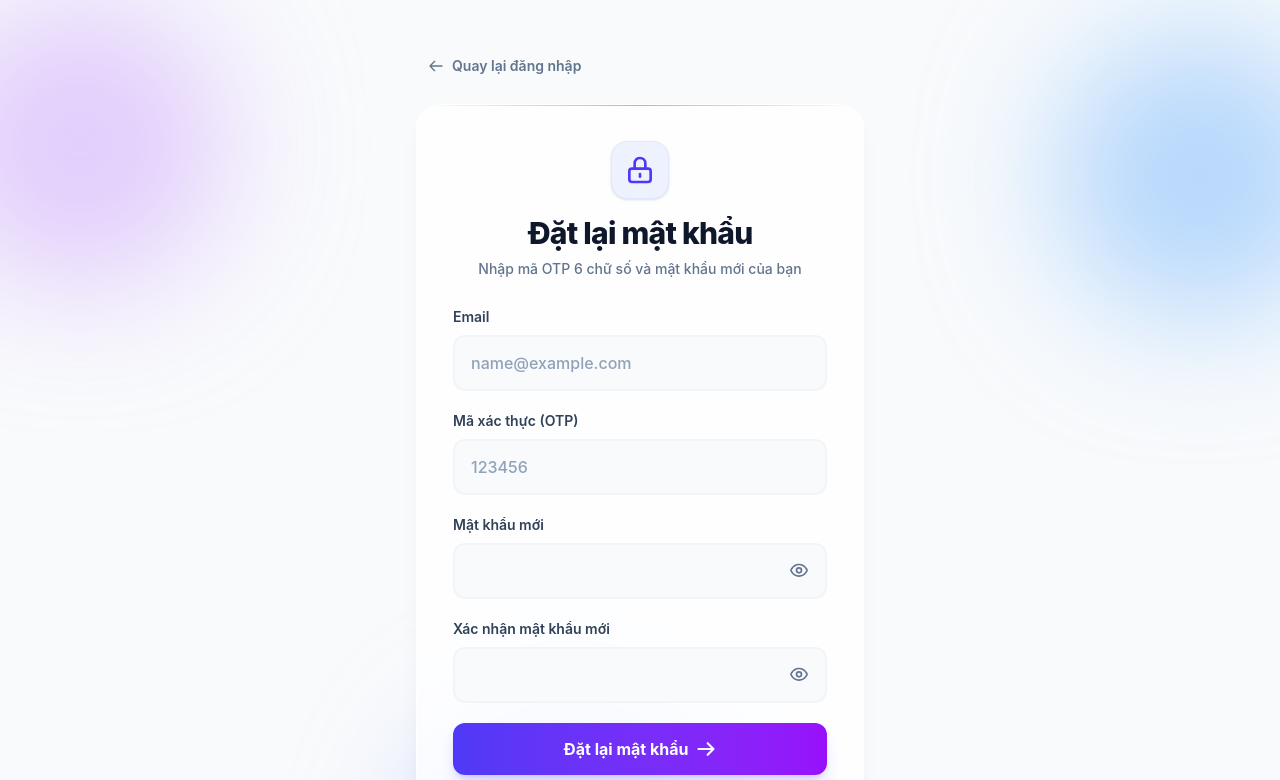
Password Recovery & Management UI Tests › ResetPasswordPage › hiển thị đầy đủ label, autocomplete và kiểm tra validation client-side
Step 1. Type "test@example.com" into the field labelled "Email" → (640, 363), box [453, 335, 827, 391]
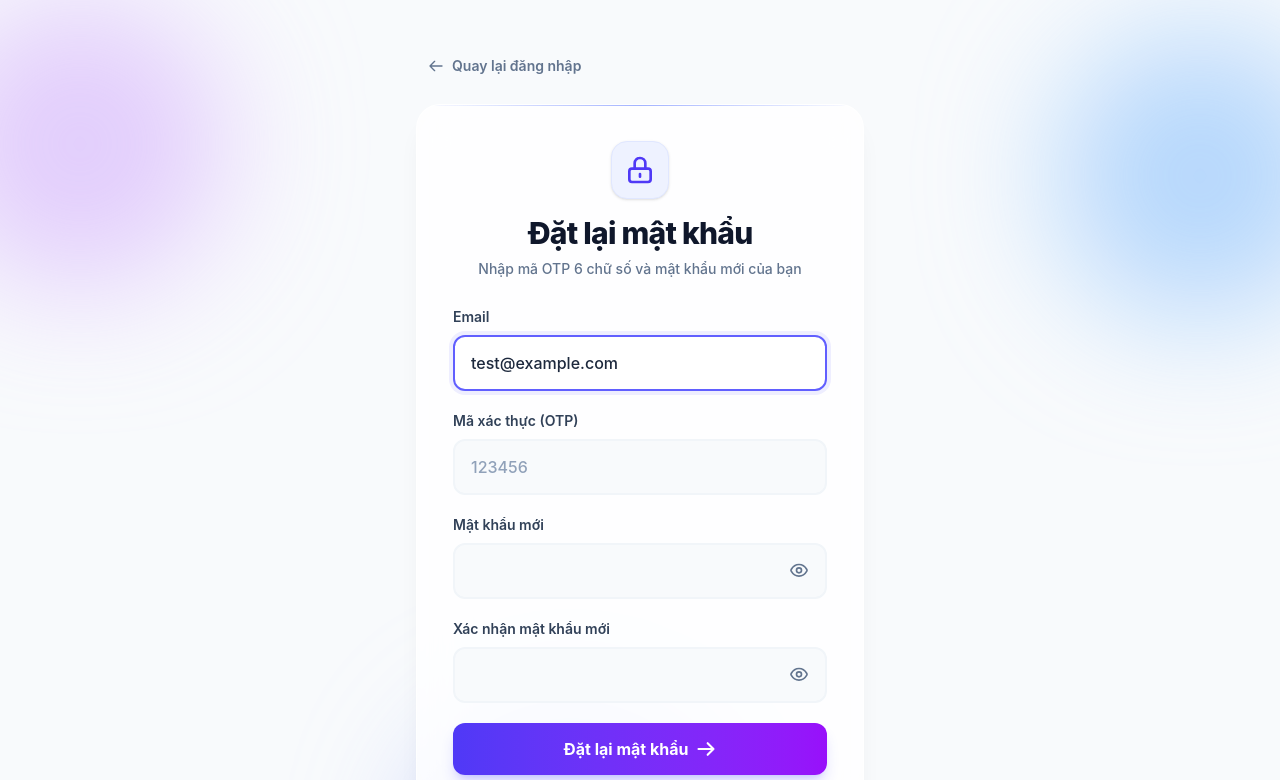
Step 2. Type "123" into the field labelled "Mã xác thực (OTP)" → (640, 467), box [453, 439, 827, 495]
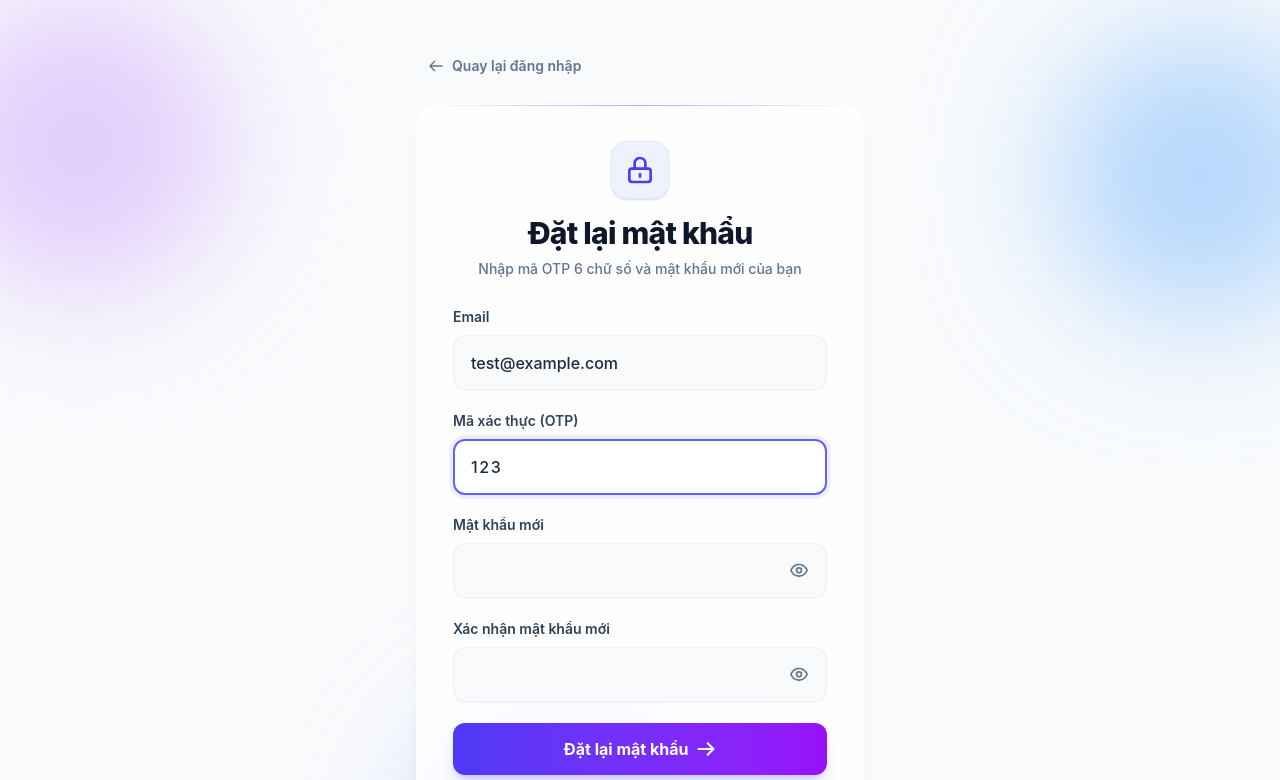
Step 3. Type "NewPass123" into the password field labelled "Mật khẩu mới" → (640, 571), box [453, 543, 827, 599]
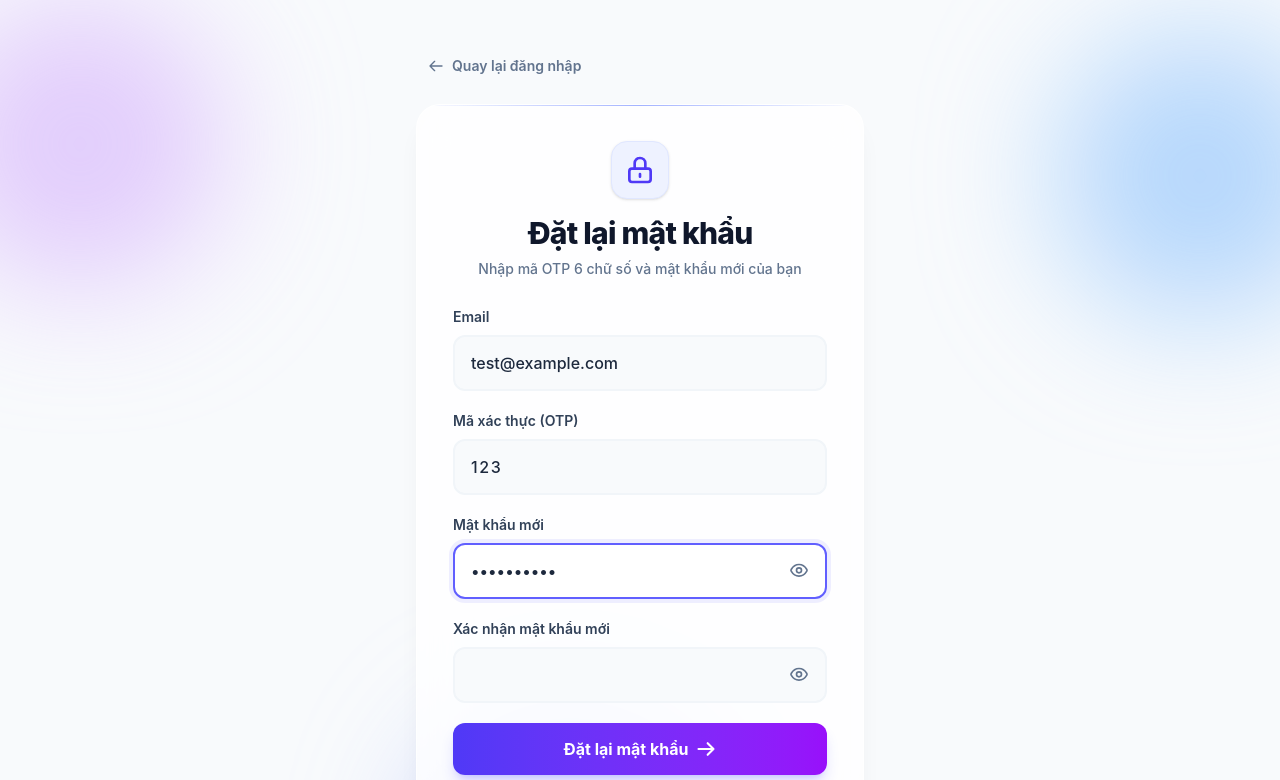
Step 4. Type "DifferentPass123" into the password field labelled "Xác nhận mật khẩu mới" → (640, 675), box [453, 647, 827, 703]
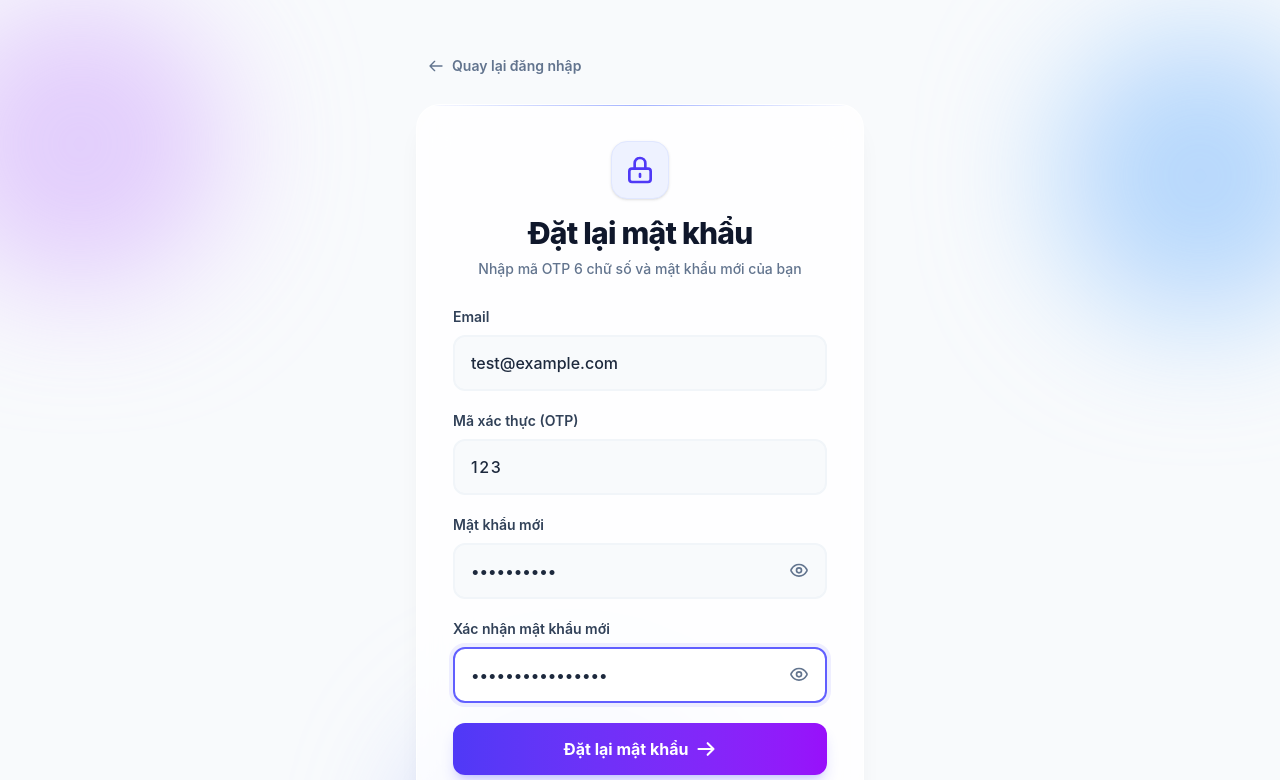
Step 5. Click the button "Đặt lại mật khẩu" → (640, 749), box [453, 723, 827, 775]
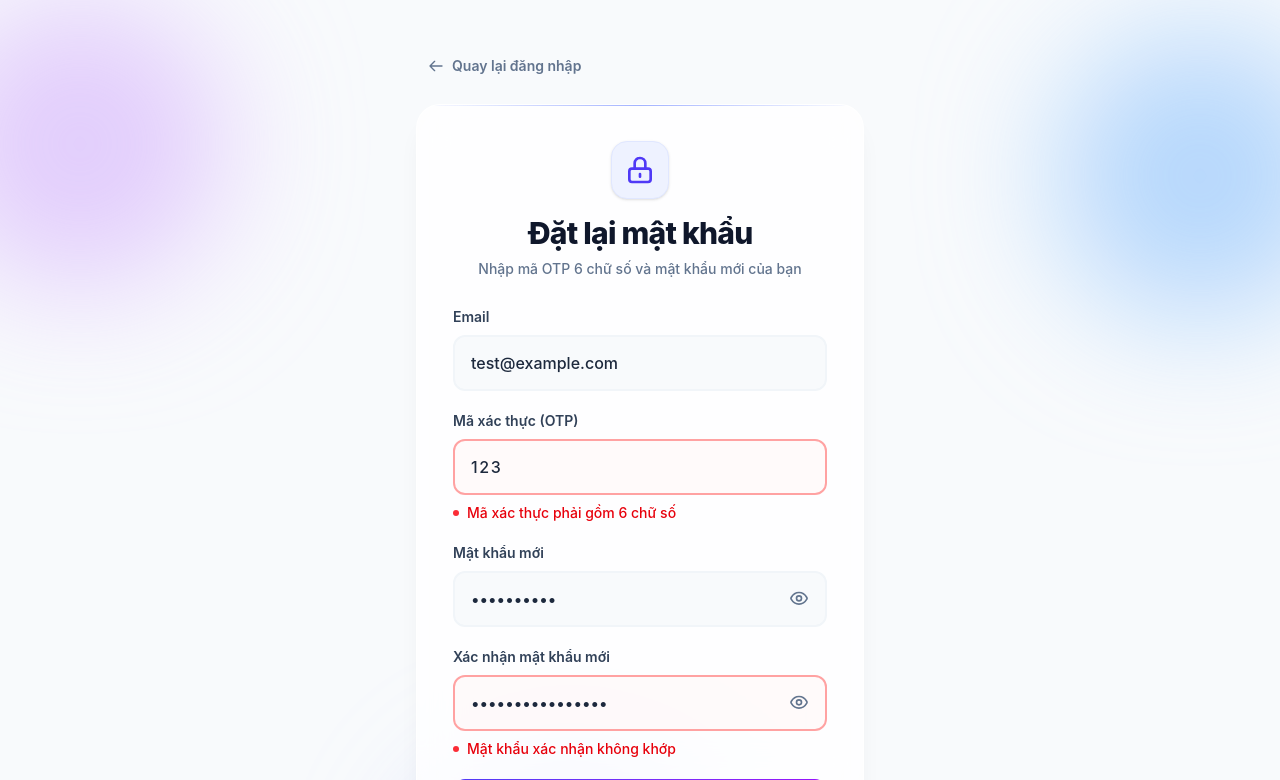
Expected: the text "Mã xác thực phải gồm 6 chữ số" is shown, [453, 504, 676, 521]
Expected: the text "Mật khẩu xác nhận không khớp" is shown, [453, 740, 676, 757]
